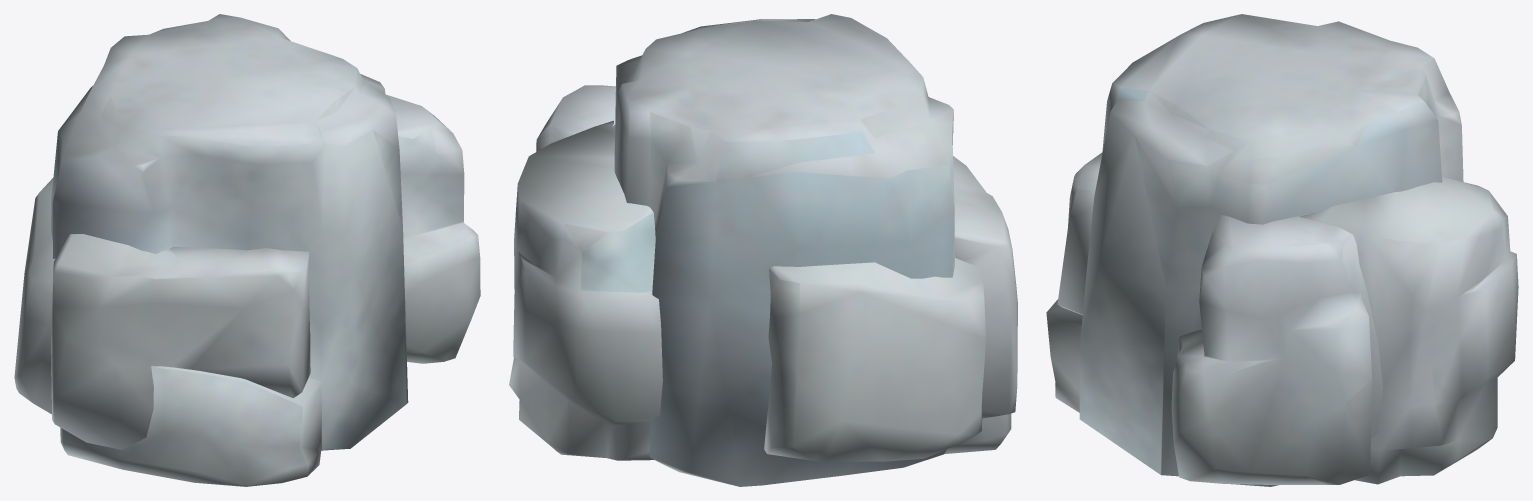
The model's file is P_RockSpire_Shelf07.obj.
3 views of the same model, side by side, from view 1: azimuth 30°, elevation 25°; view 2: azimuth 150°, elevation 25°; view 3: azimuth 270°, elevation 25° (orthographic). The views are drawn at different scales.
Bounding box in the file's own units: 43.18 × 32.84 × 40.07.
